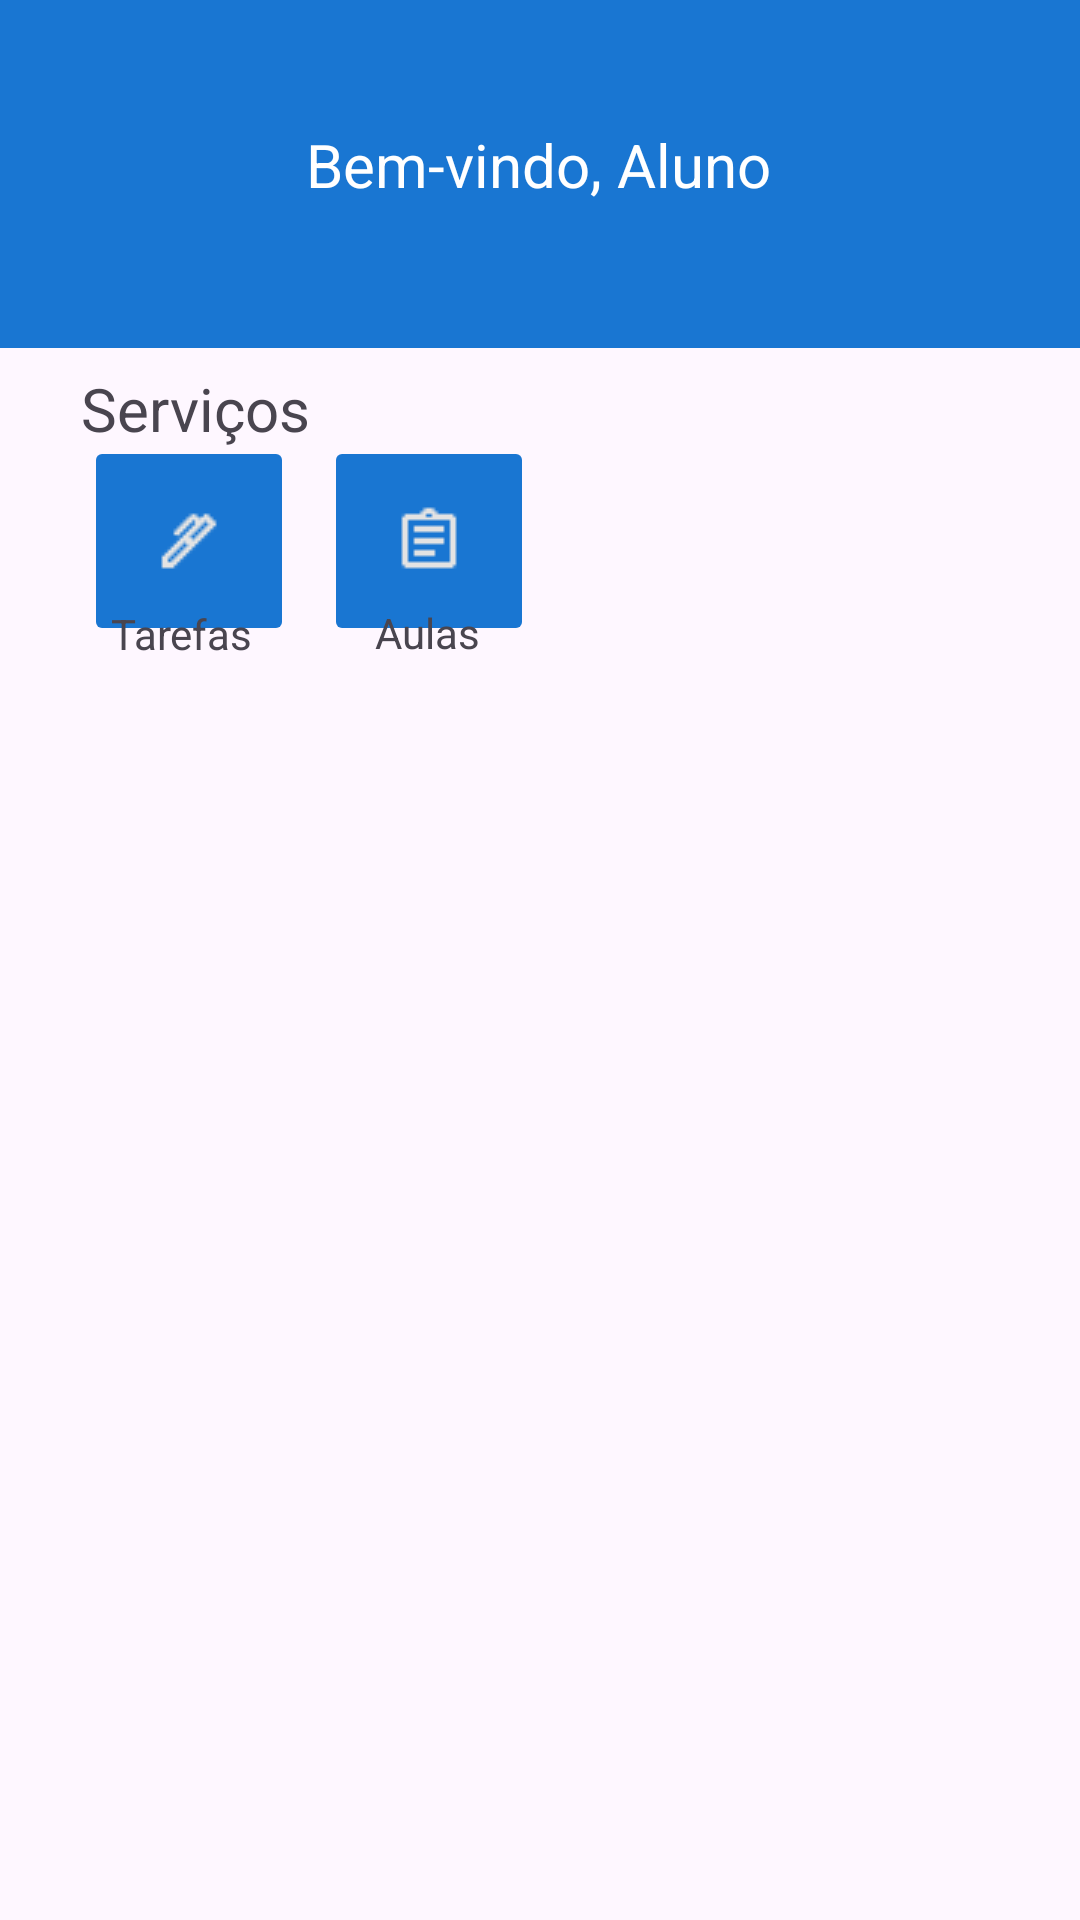

Icons on this 1080px x 1920px Android screen, each with the point to tap as (x,y):
atividade: (429,550)
pen: (189,550)
